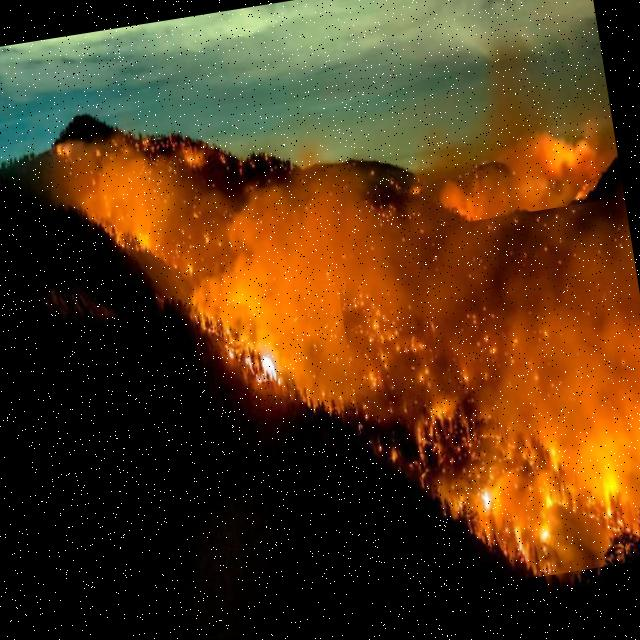fire: (331, 197, 640, 601), (57, 88, 334, 436)
